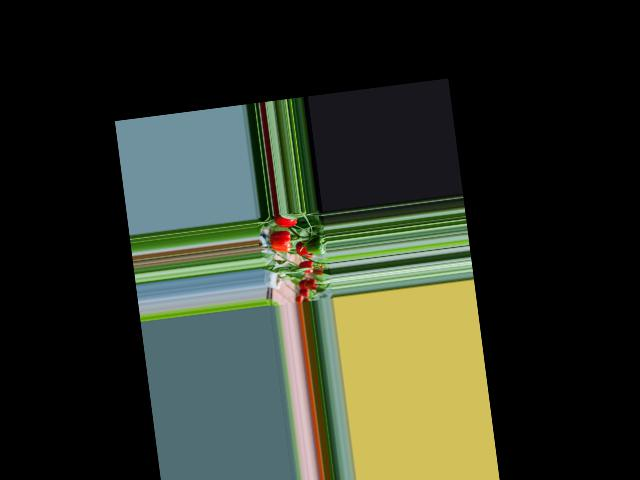bell_pepper: (294, 259, 318, 276)
